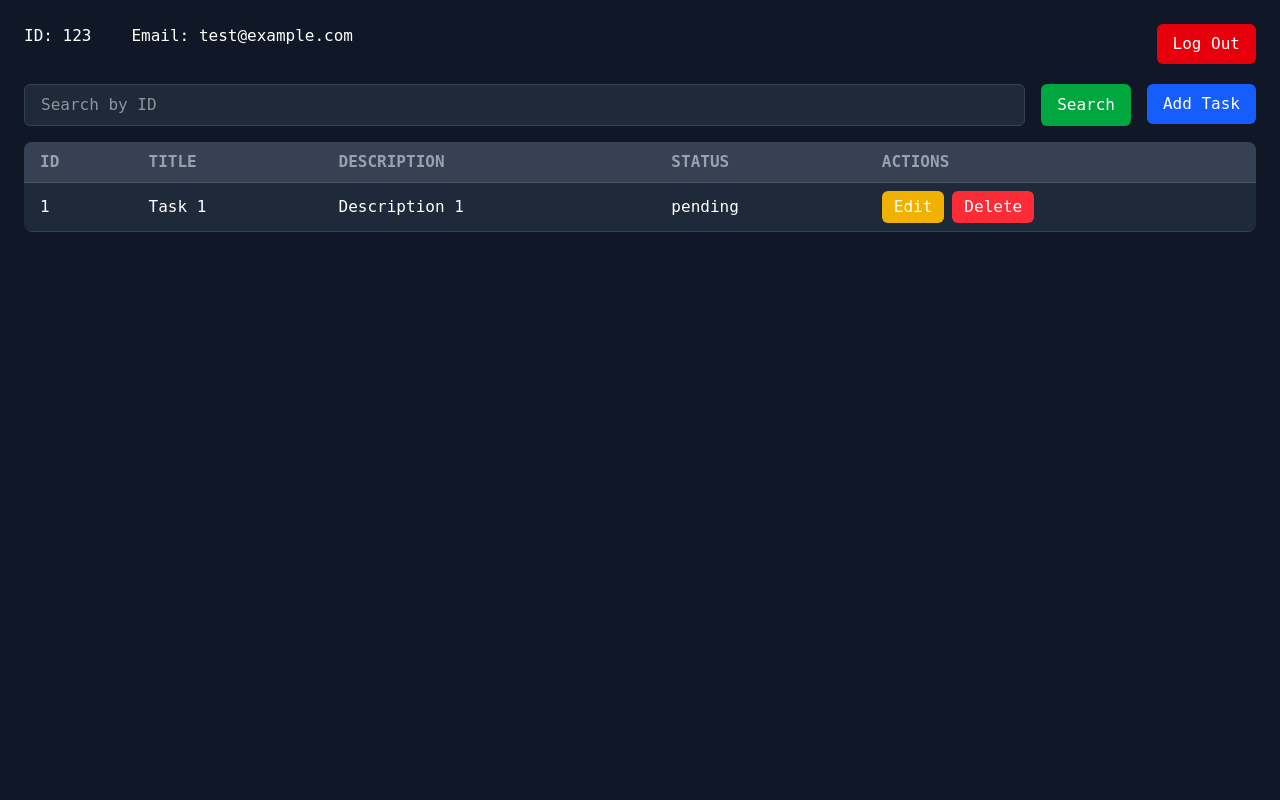
Tasks Component › should can edits a task
The width and height of the screenshot is (1280, 800).
Expected: the text "1" is shown, [24,182,132,232]
Expected: the text "Task 1" is shown, [132,182,323,232]
Click the button "Edit" at (913, 207), box [882,191,944,223]
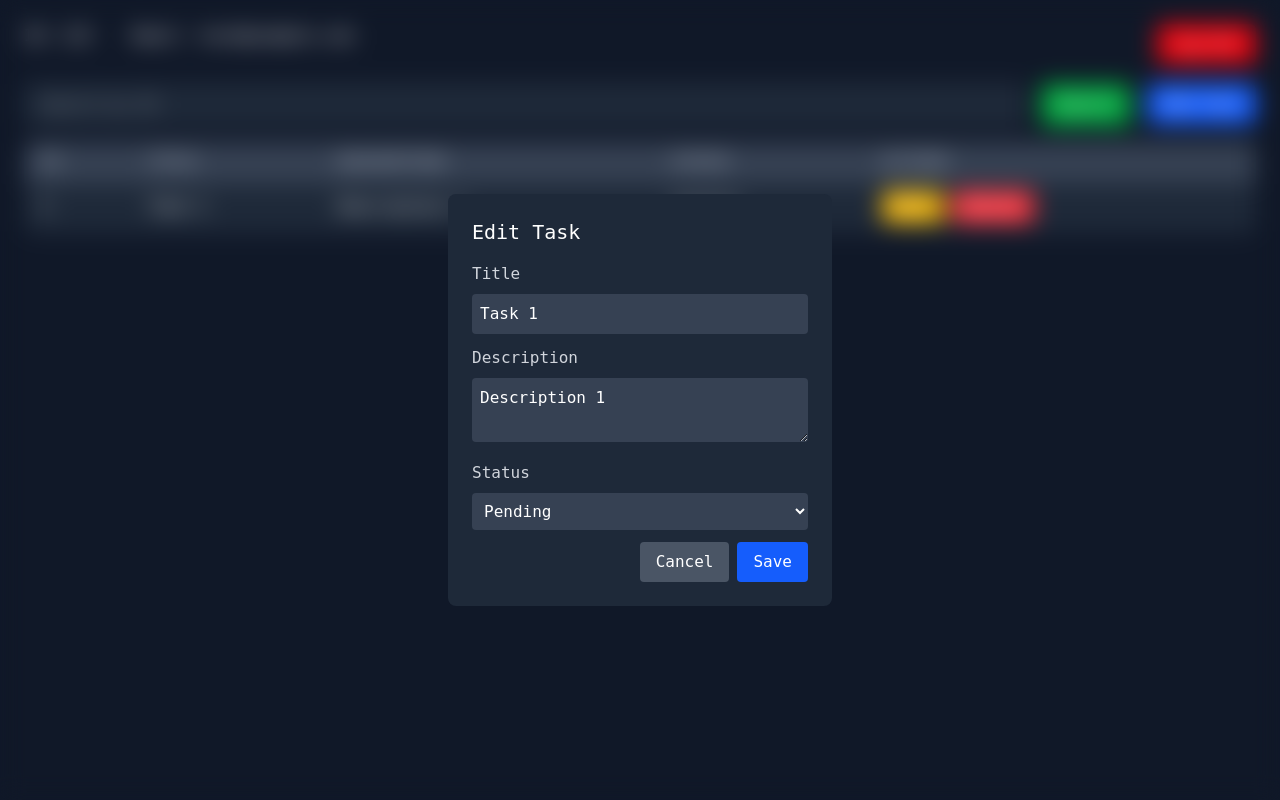
Replace the text in the field labelled "Title" with "Updated Task" at (640, 314), box [472,294,808,334]
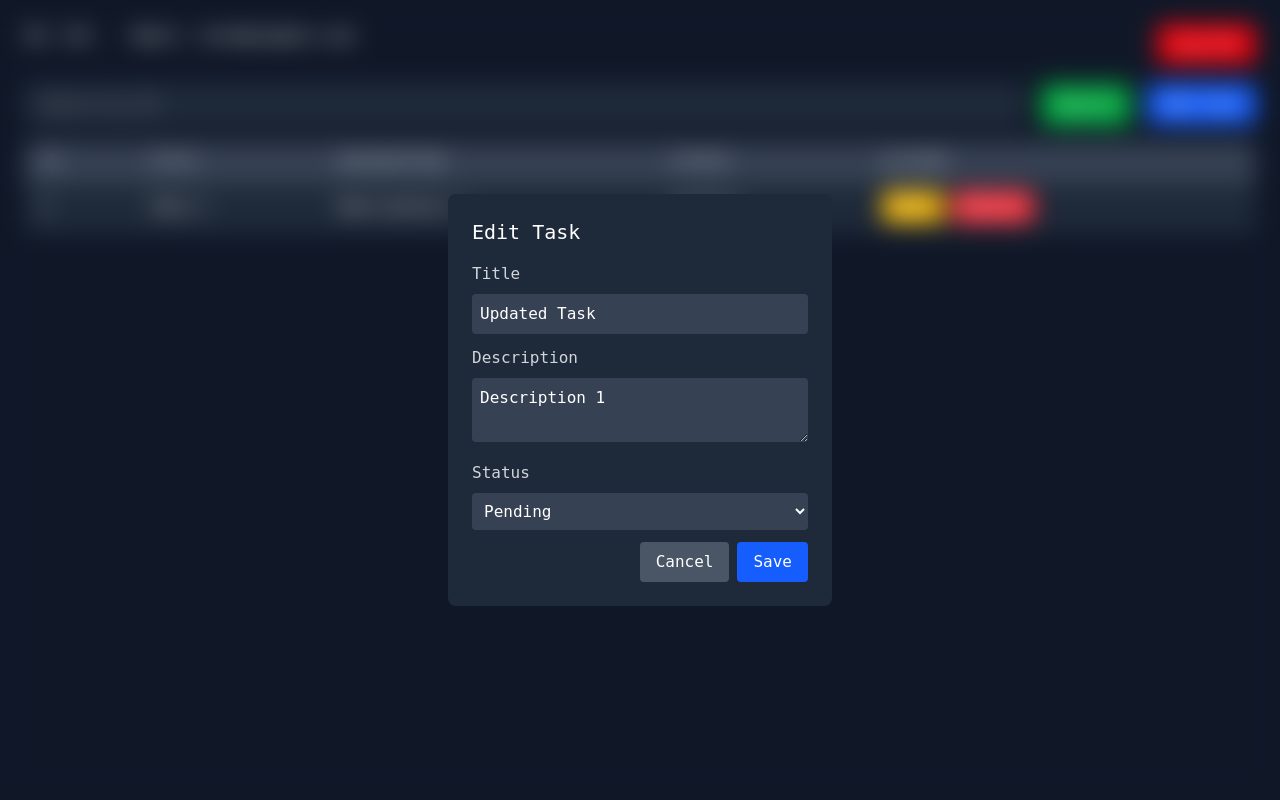
Replace the text in the text box labelled "Description" with "Updated Description" at (640, 410), box [472,378,808,442]
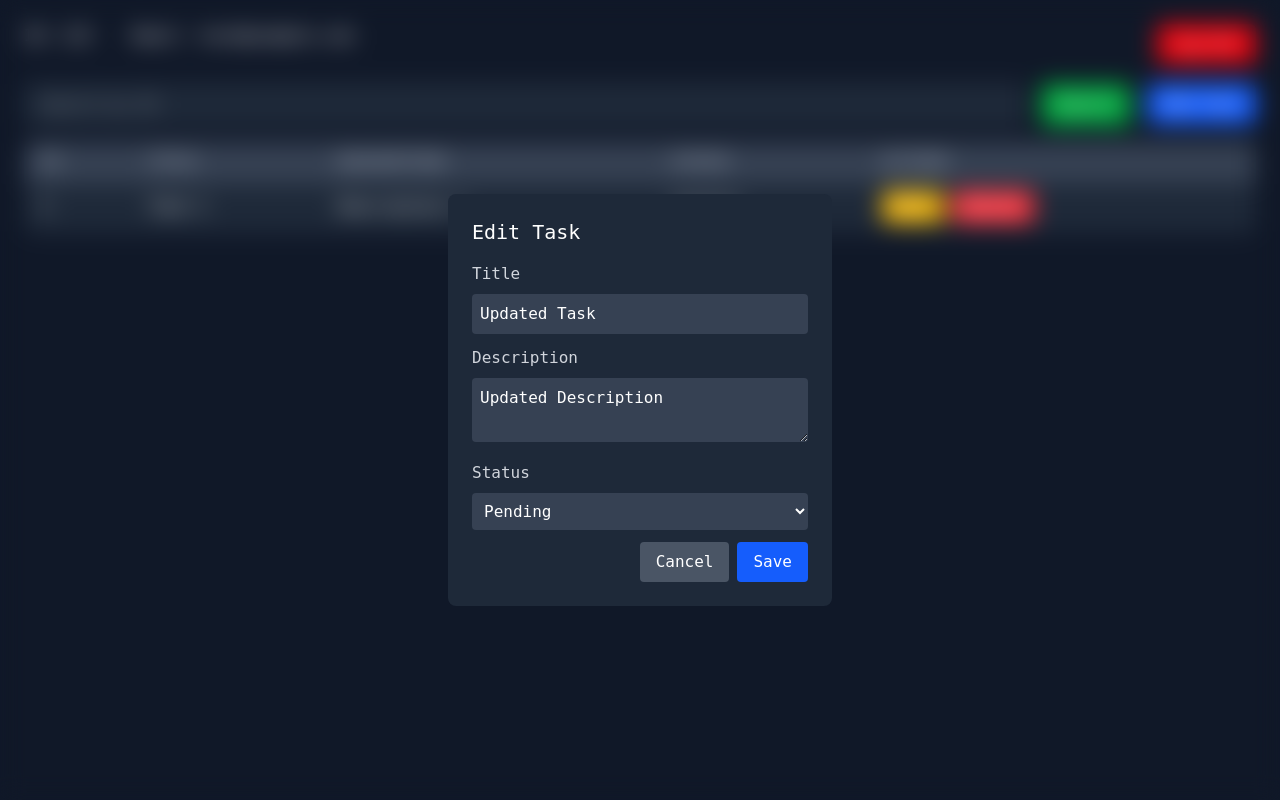
Select "Completed" in the dropdown labelled "Status" at (640, 512), box [472,493,808,530]
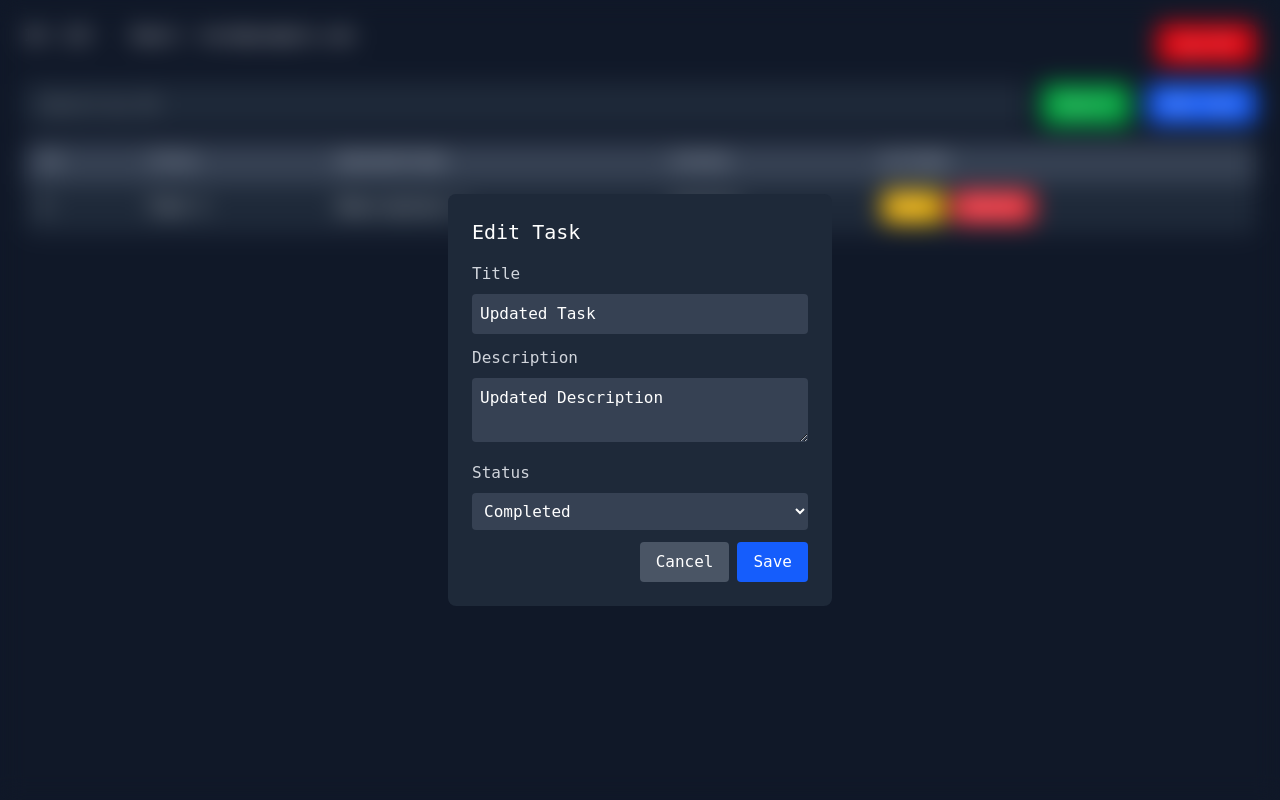
Click the button "Save" at (773, 562), box [738,542,808,582]
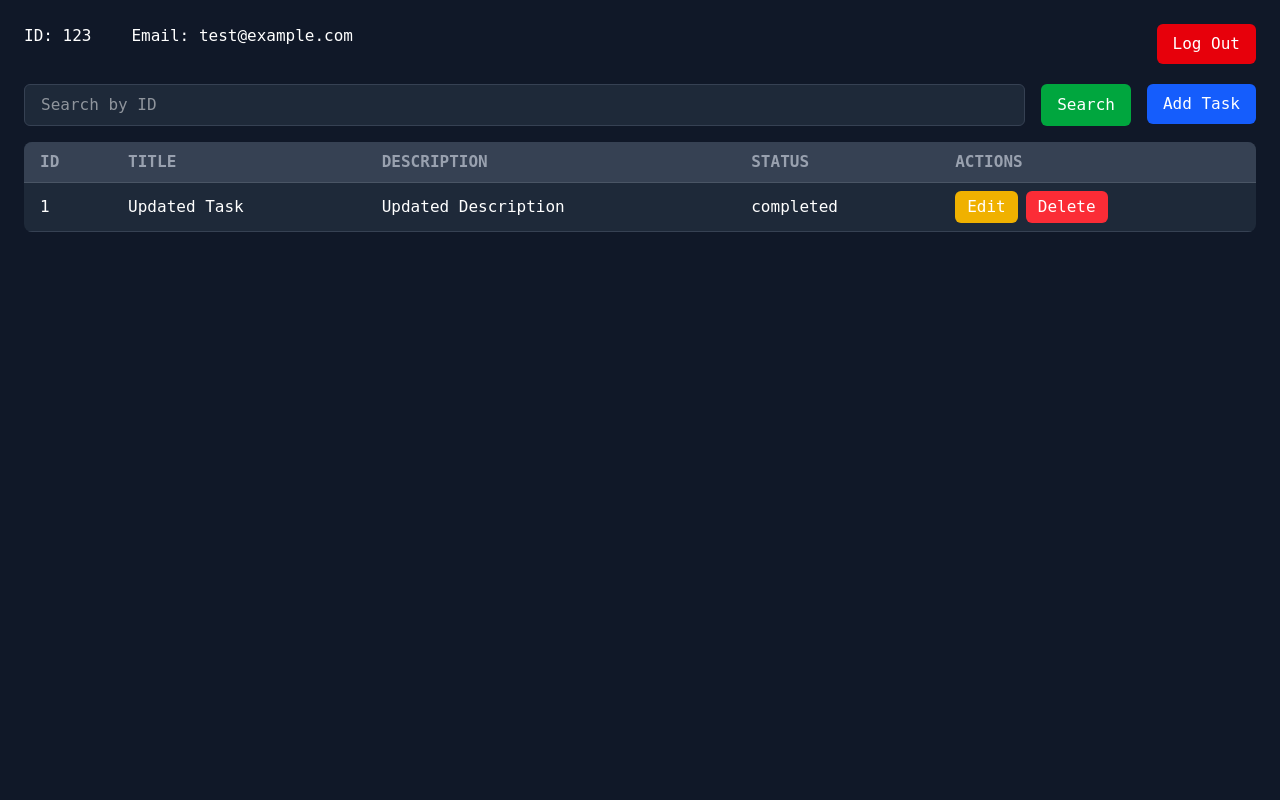
Result: the text "Updated Task" is shown at [112,182,366,232]
Result: the text "Updated Description" is shown at [366,182,735,232]
Result: the text "completed" is shown at [735,182,939,232]
